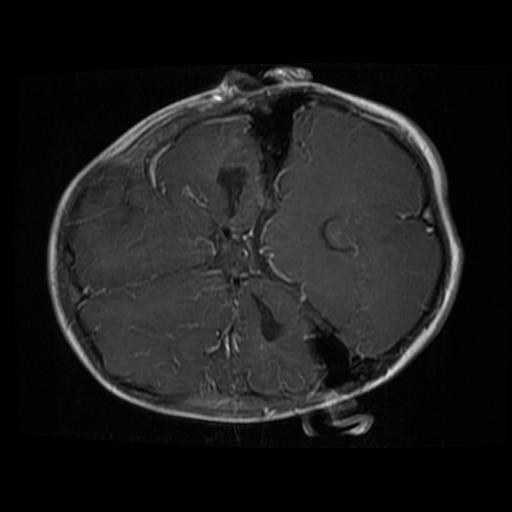glioma: (214, 163, 248, 218)
